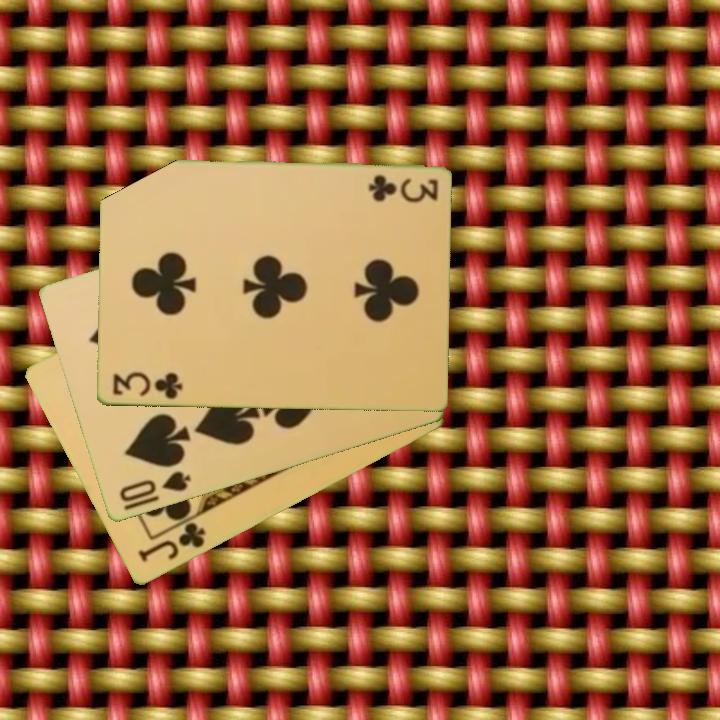10s: (116, 468, 194, 506)
3c: (109, 369, 185, 403), (364, 171, 441, 202)
Jc: (134, 512, 209, 566)
